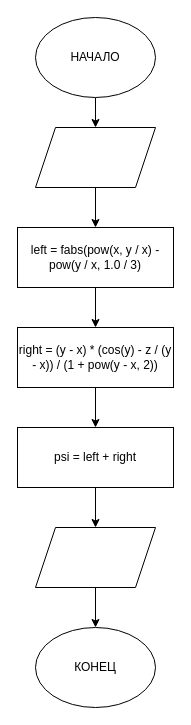
Image size: 191x725. Some labels were removed from this diagram. The box of each missing label's shape, as (x1, y1, x2, y2) in pixels:
Ввод x, y, z: (34, 126, 156, 188)
Вывод psi: (34, 526, 156, 588)
